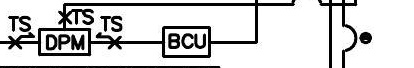BCU: (161, 25, 212, 59)
DPM: (37, 27, 91, 57)
